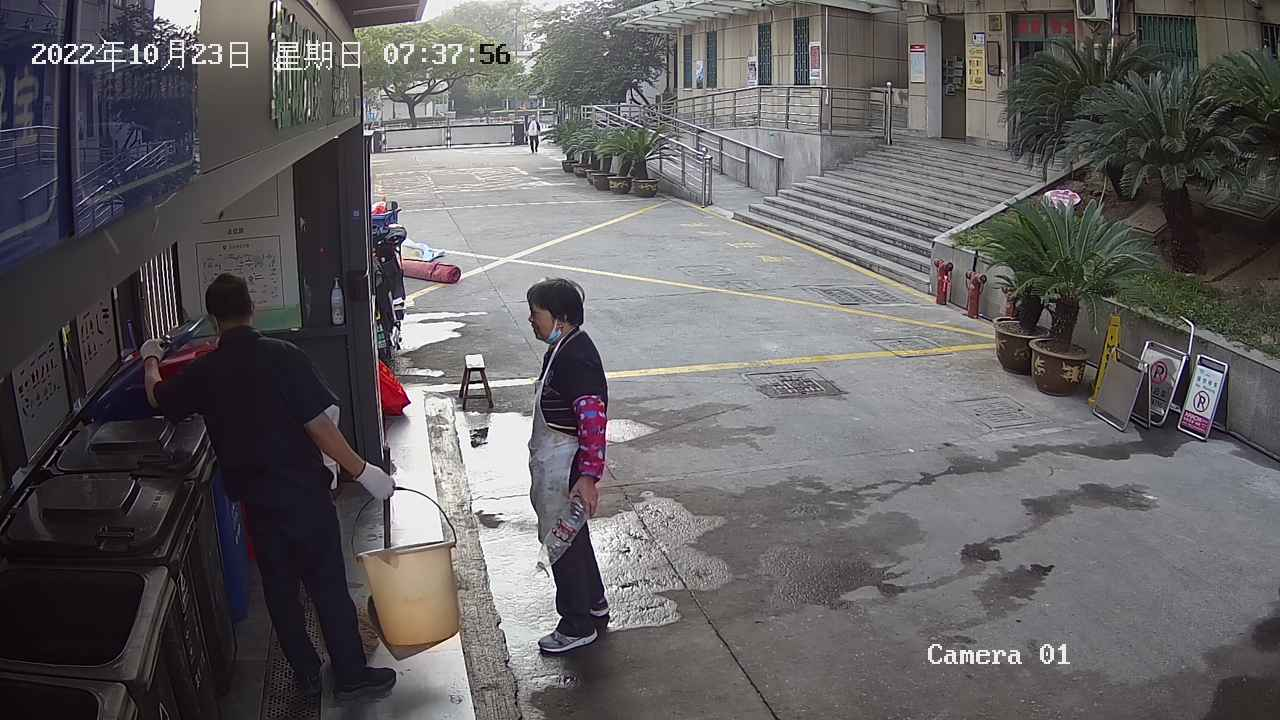person: (136, 267, 402, 698), (522, 274, 613, 656)
suliaozhipin: (532, 491, 591, 577)
youtong: (349, 485, 466, 650)
